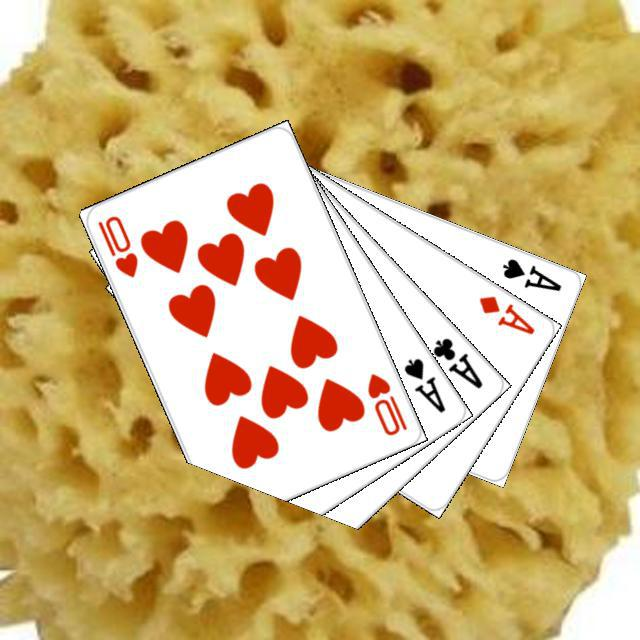10h: (92, 210, 140, 280), (362, 368, 409, 438)
Ac: (427, 332, 485, 391)
Ad: (474, 290, 537, 337)
As: (398, 353, 448, 415), (497, 253, 564, 293)
